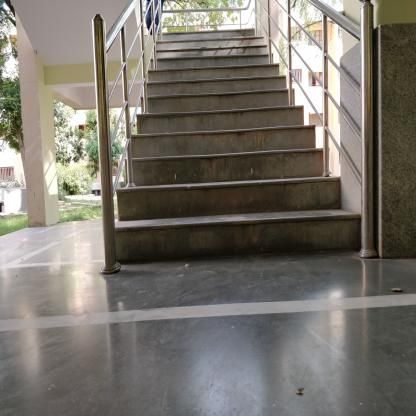stairs: (167, 31, 256, 267)
